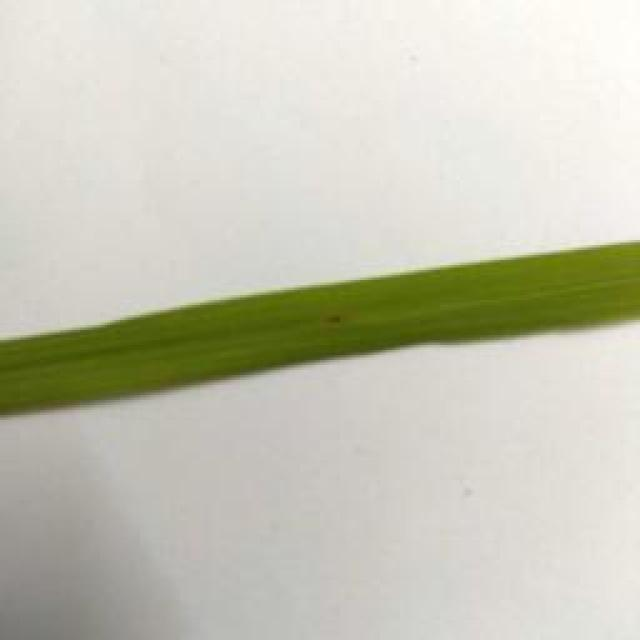Brown_Spot: (324, 308, 355, 326)
